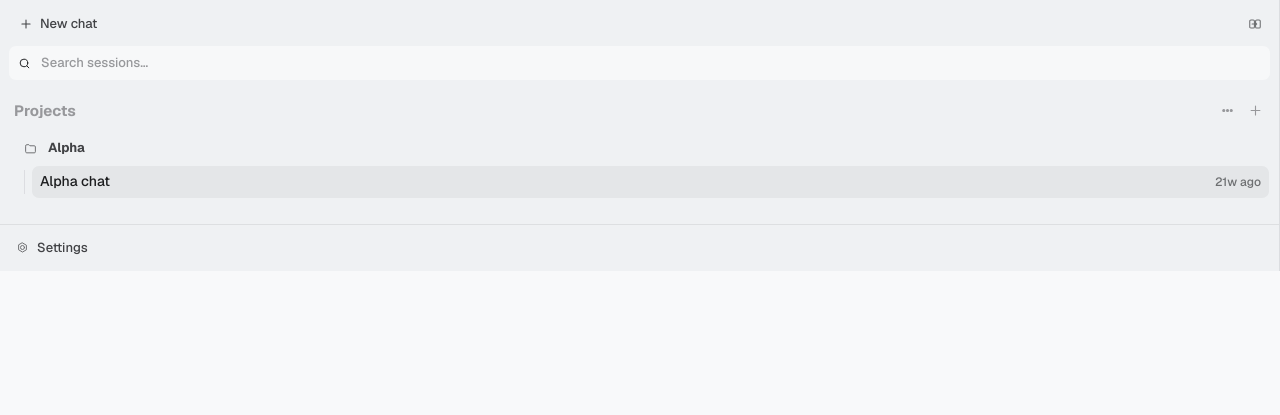
Scenario: desktop Sidebar workspace grouping › opens a session context menu with per-session actions
The width and height of the screenshot is (1280, 415).
Step 1. Right-click the button titled "Alpha chat" → [75, 181], box [32,166,1269,198]
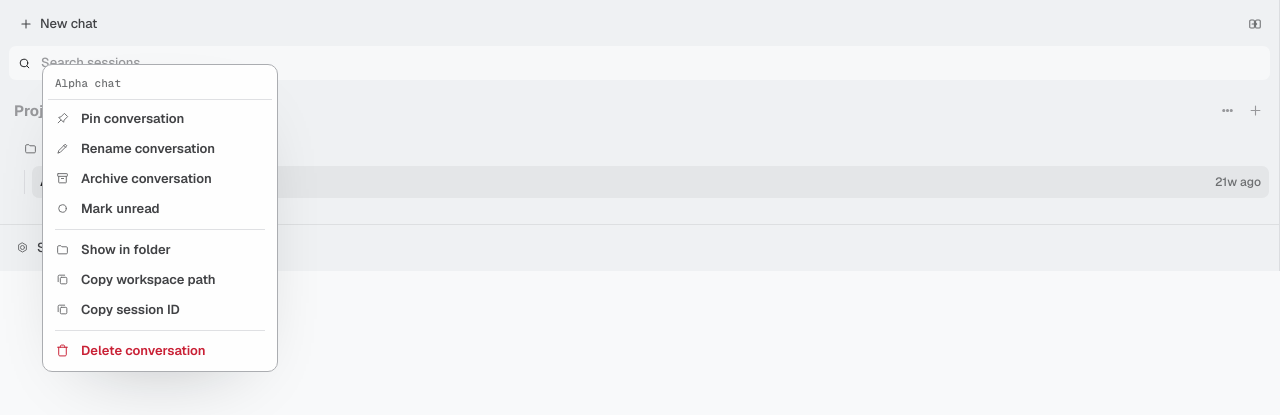
Expected: the menu named "Session actions" is shown, [42,64,278,372]
Expected: the menu item "Pin conversation" is shown, [48,104,272,134]
Expected: the menu item "Rename conversation" is shown, [48,134,272,164]
